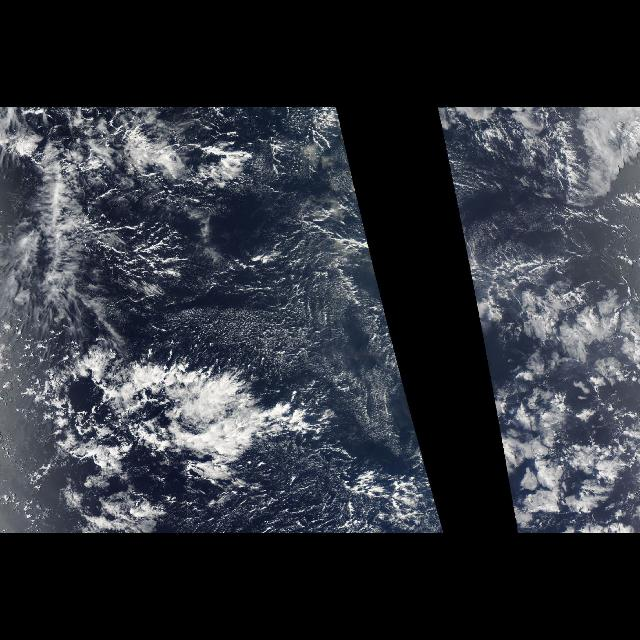Sugar: (160, 294, 398, 396)
